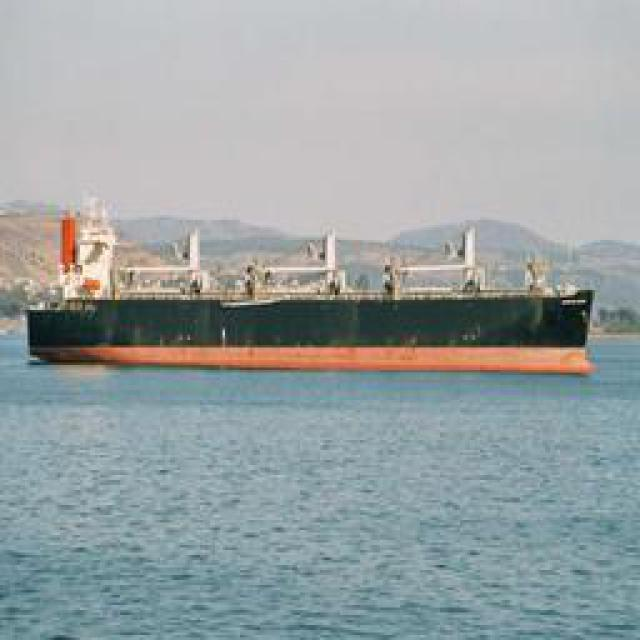Ship: (25, 218, 603, 376)
